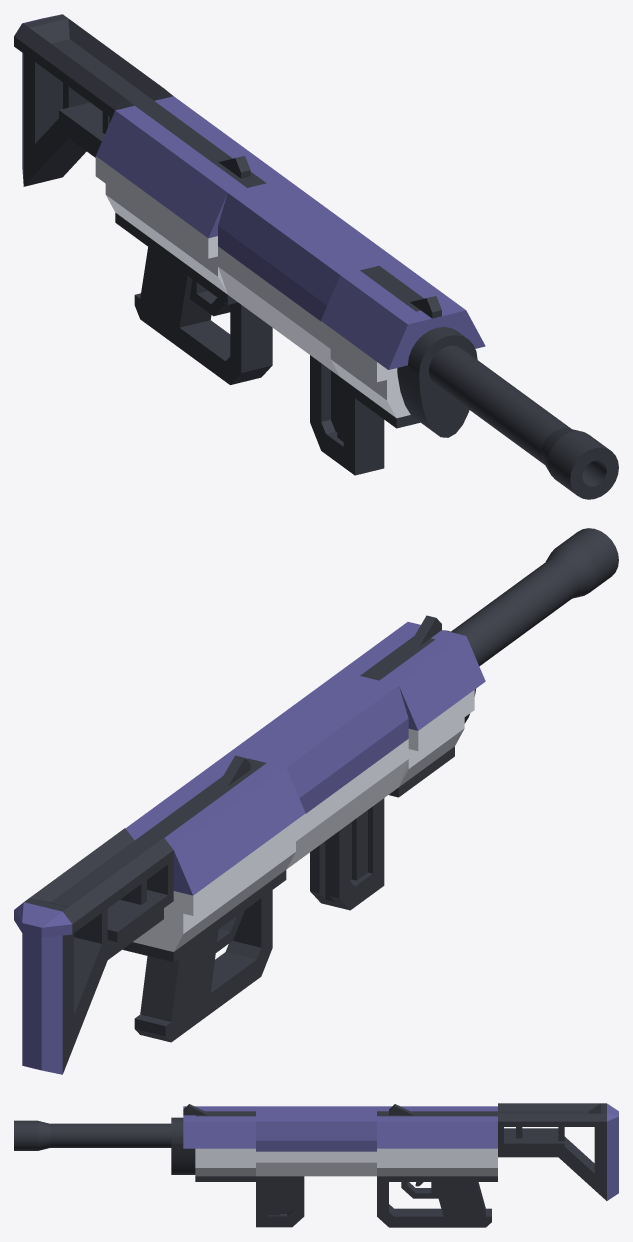
The model's file is riflefp.fbx.
3 renders of one model, top to bottom at view 1: azimuth 30°, elevation 25°; view 2: azimuth 150°, elevation 25°; view 3: azimuth 270°, elevation 25°, orthographic. The views are drawn at different scales.
Parts seen in each view (by area): view 1: largeBlaster_handleGuard, largeBlaster_barrelSpace, mediumBlaster_center, stock_stealth, attachment_barrelEnd, clip_small, attachment_barrelThin; view 2: largeBlaster_handleGuard, stock_stealth, mediumBlaster_center, largeBlaster_barrelSpace, attachment_barrelEnd, clip_small, attachment_barrelThin; view 3: largeBlaster_handleGuard, mediumBlaster_center, stock_stealth, largeBlaster_barrelSpace, attachment_barrelEnd, clip_small, attachment_barrelThin, detailTargetSightFront (×2).
Boxes of the visible parts, bbox=[...] form: largeBlaster_handleGuard: bbox=[95, 96, 285, 384]; largeBlaster_barrelSpace: bbox=[321, 261, 485, 437]; mediumBlaster_center: bbox=[218, 178, 398, 376]; stock_stealth: bbox=[14, 14, 173, 186]; attachment_barrelEnd: bbox=[462, 370, 618, 499]; clip_small: bbox=[310, 355, 384, 475]; attachment_barrelThin: bbox=[429, 345, 494, 408]; largeBlaster_handleGuard: bbox=[122, 753, 305, 1042]; stock_stealth: bbox=[14, 828, 173, 1074]; mediumBlaster_center: bbox=[228, 671, 408, 869]; largeBlaster_barrelSpace: bbox=[341, 622, 485, 797]; attachment_barrelEnd: bbox=[470, 528, 618, 653]; clip_small: bbox=[310, 798, 384, 910]; attachment_barrelThin: bbox=[451, 615, 501, 666]; largeBlaster_handleGuard: bbox=[377, 1106, 497, 1227]; mediumBlaster_center: bbox=[256, 1106, 376, 1176]; stock_stealth: bbox=[498, 1103, 618, 1200]; largeBlaster_barrelSpace: bbox=[171, 1106, 255, 1181]; attachment_barrelEnd: bbox=[14, 1120, 134, 1150]; clip_small: bbox=[256, 1176, 304, 1227]; attachment_barrelThin: bbox=[135, 1123, 171, 1147]; detailTargetSightFront (×2): bbox=[183, 1104, 413, 1115].
Bounding box in the file's own units: 5 × 10.8 × 50.
